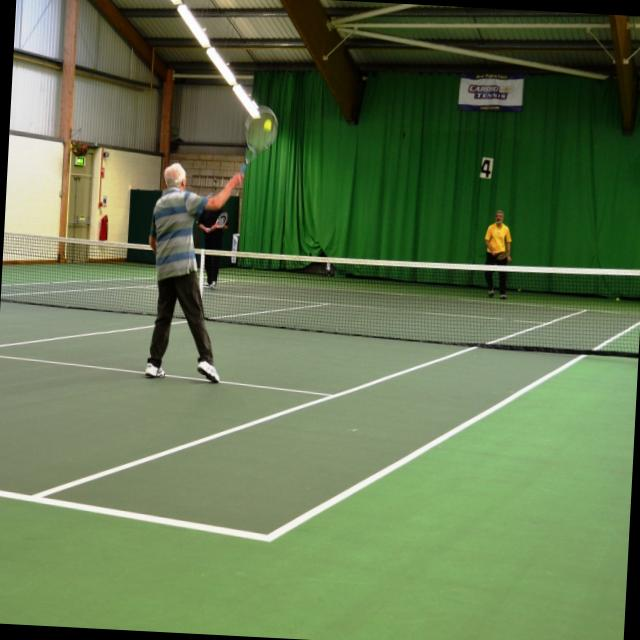Tennis Ball: (264, 118, 272, 130)
